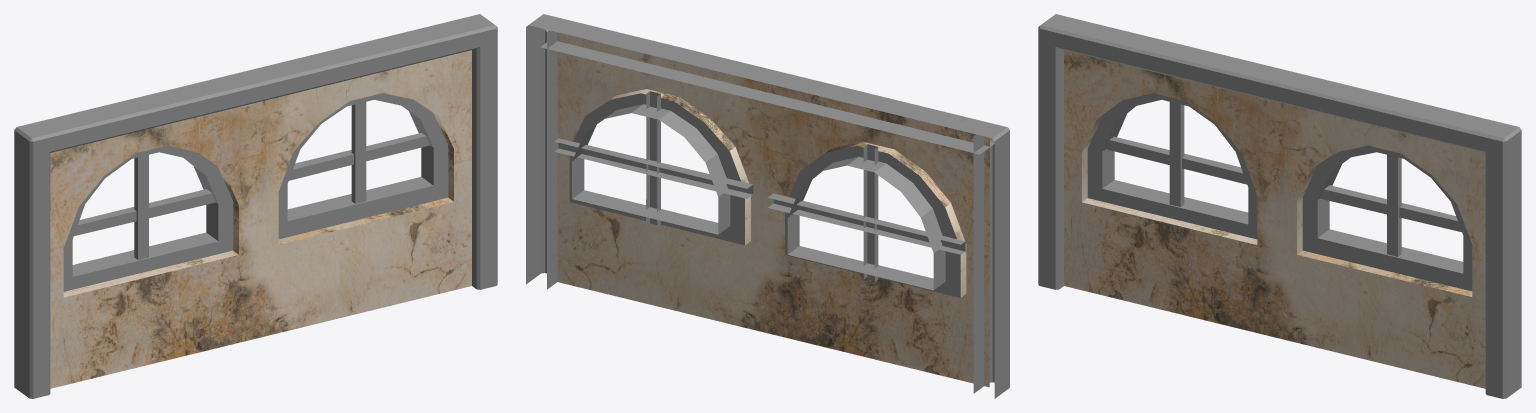
File: Batiment_1_porte_fenetre_circulaire_2.FBX
The picture shows the model from 3 angles, left to right: view 1: azimuth 30°, elevation 25°; view 2: azimuth 150°, elevation 25°; view 3: azimuth 330°, elevation 25°; orthographic projection.
Parts seen in each view (by area): view 1: Object004; view 2: Object004; view 3: Object004.
Boxes of the visible parts, x1,y1,x2,y2 form: Object004: [14, 14, 497, 398]; Object004: [526, 14, 1009, 398]; Object004: [1038, 14, 1521, 398].
Size of the model in its own units: 315 by 28.09 by 167.
Materials: 3 (1 with a texture image).
